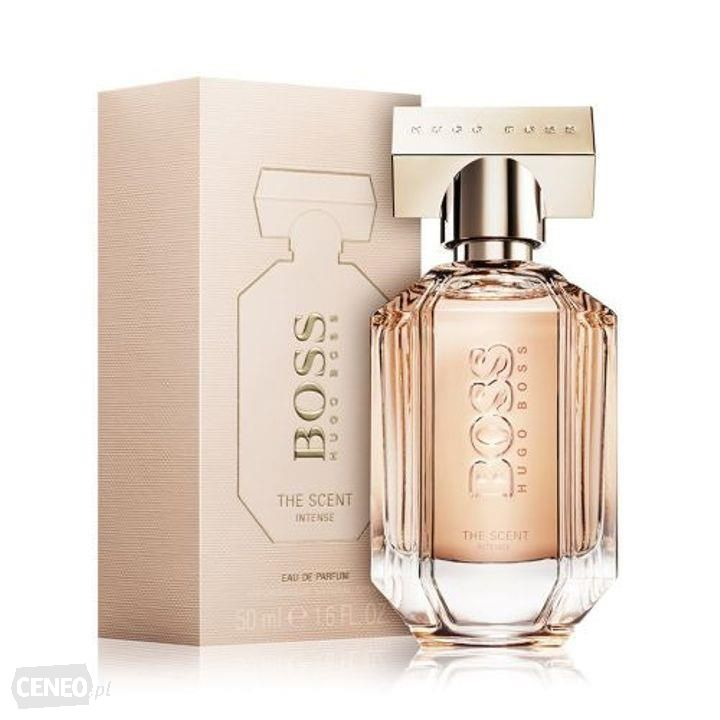Hugo Boss: (513, 341, 541, 505), (404, 117, 582, 141), (321, 310, 344, 469)
